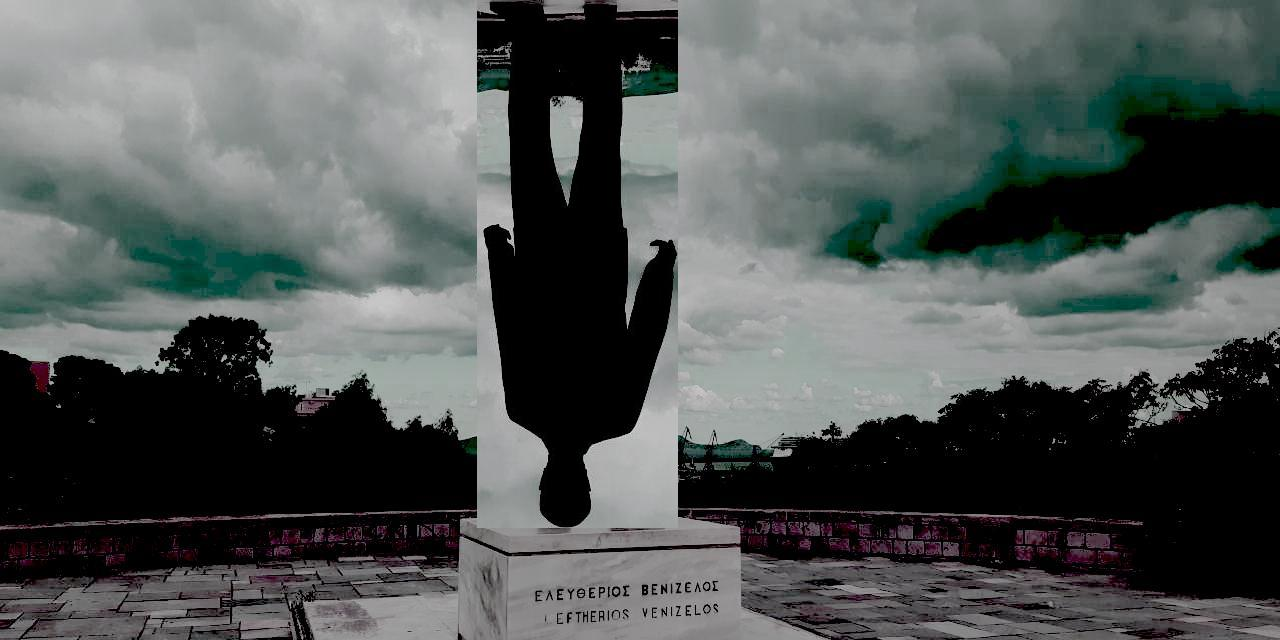Venizelos: (478, 1, 679, 529)
